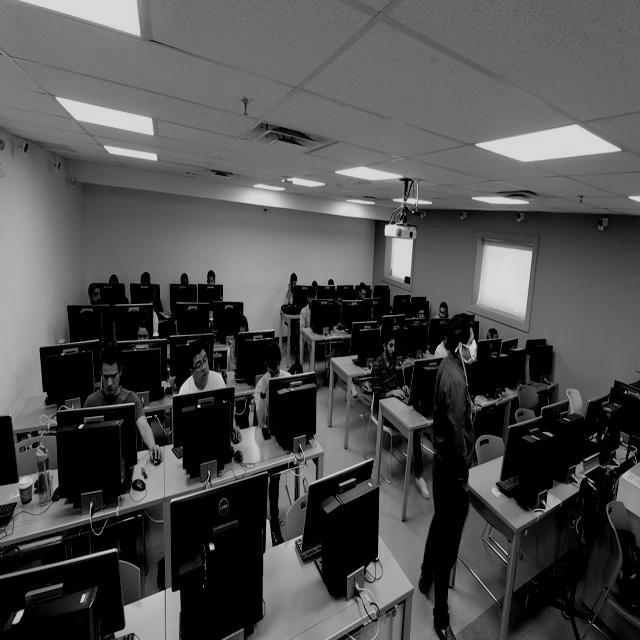Looking away: (101, 360, 121, 397), (265, 344, 282, 380), (235, 314, 249, 340), (384, 334, 396, 361), (89, 284, 102, 306), (137, 323, 150, 345), (439, 301, 448, 320)
Looking forward: (192, 347, 210, 386)
